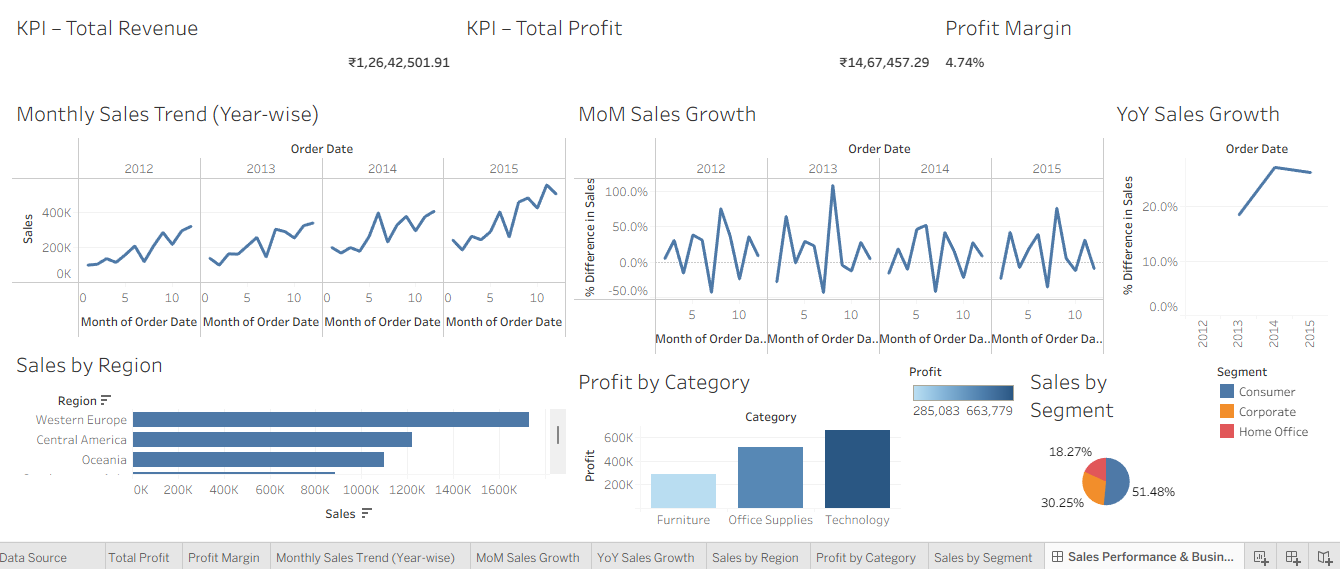

The page's visual inventory and layout, read from the dashboard file:
{"tool":"tableau","page":{"name":"Sales Performance & Business Insights Dashboard","canvas":[1000,1000],"units":"permille","ordinal":0},"visuals":[{"type":"worksheet","title":"KPI – Total Revenue","mark":"Automatic","box":[6,14.7,335.8,158.1]},{"type":"worksheet","title":"KPI – Total Profit","mark":"Automatic","box":[341.8,14.7,357.3,158.1]},{"type":"worksheet","title":"Profit Margin","mark":"Automatic","box":[699.1,14.7,295,158.1]},{"type":"worksheet","title":"Monthly Sales Trend (Year-wise)","mark":"Automatic","rows":["Sales"],"cols":["Order Date","Order Date"],"box":[6,172.8,419.4,461.4]},{"type":"worksheet","title":"MoM Sales Growth","mark":"Automatic","cols":["Order Date","Order Date"],"box":[425.4,172.8,401.5,492.7]},{"type":"worksheet","title":"YoY Sales Growth","mark":"Automatic","cols":["Order Date"],"box":[826.9,172.8,167.2,492.7]},{"type":"worksheet","title":"Sales by Region","mark":"Automatic","rows":["Region"],"cols":["Sales"],"box":[6,634.2,419.4,351.1]},{"type":"worksheet","title":"Profit by Category","mark":"Automatic","rows":["Profit"],"cols":["Category"],"box":[425.4,665.4,250,319.9]},{"type":"legend","title":"Profit by Category","param":"[federated.04smb0t129ef2b17e4m3h1a0h0ld].[sum:Profit:qk]","box":[675.4,665.4,87.3,319.9]},{"type":"worksheet","title":"Sales by Segment","mark":"Pie","box":[762.7,665.4,142.5,319.9]},{"type":"legend","title":"Sales by Segment","param":"[federated.04smb0t129ef2b17e4m3h1a0h0ld].[none:Segment:nk]","box":[905.2,665.4,88.8,319.9]}]}

Visuals, with their boxes on the dashboard's canvas, which has no fixed pixel size, in thousandths of its width and height (x1, y1, x2, y2). These are canvas units, not pixel positions in the 1340x569 screenshot, which may show the page scaled, cropped or inside an application window:
"KPI – Total Revenue" worksheet: rect(6, 15, 342, 173)
"KPI – Total Profit" worksheet: rect(342, 15, 699, 173)
"Profit Margin" worksheet: rect(699, 15, 994, 173)
"Monthly Sales Trend (Year-wise)" worksheet: rect(6, 173, 425, 634)
"MoM Sales Growth" worksheet: rect(425, 173, 827, 666)
"YoY Sales Growth" worksheet: rect(827, 173, 994, 666)
"Sales by Region" worksheet: rect(6, 634, 425, 985)
"Profit by Category" worksheet: rect(425, 665, 675, 985)
"Profit by Category" legend: rect(675, 665, 763, 985)
"Sales by Segment" worksheet (Pie marks): rect(763, 665, 905, 985)
"Sales by Segment" legend: rect(905, 665, 994, 985)
